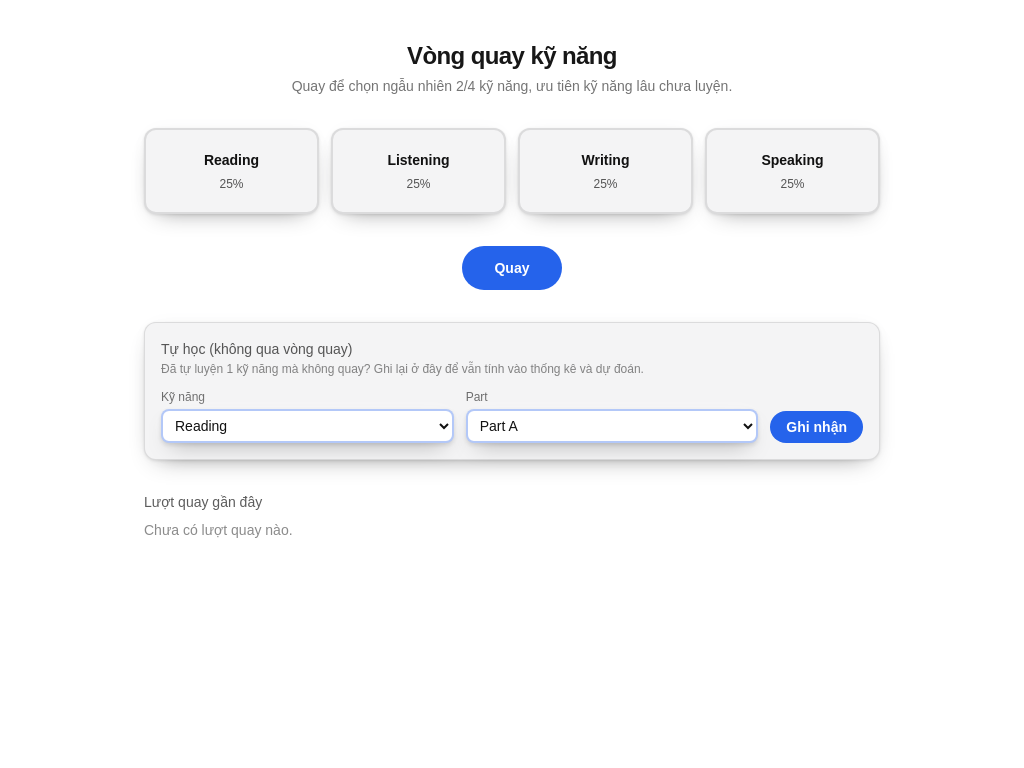
Test case: Spinner › reveals the server-chosen skills and parts after a roll
What coordinates should you click on to do the following:
click the button "Quay"
I would click on:
 (512, 268)
Its box is left=462, top=246, right=562, bottom=290.
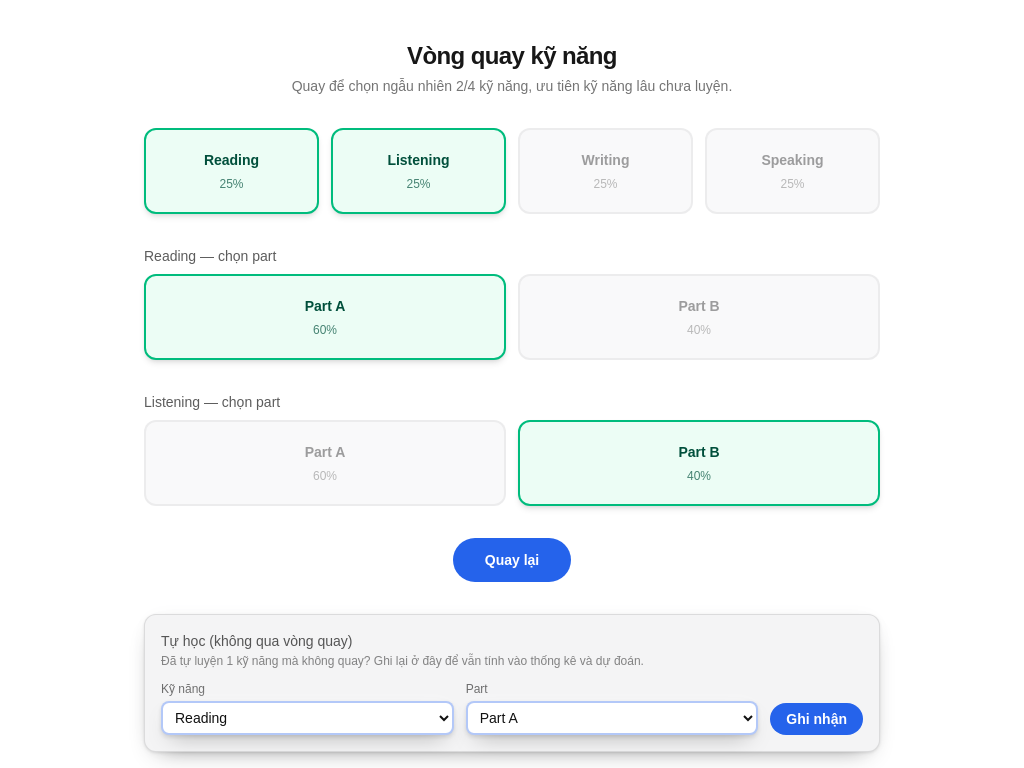
Expected: the button "Quay lại" is shown, left=453, top=538, right=571, bottom=582
Expected: the heading "Reading — chọn part" is shown, left=144, top=248, right=276, bottom=264
Expected: the heading "Listening — chọn part" is shown, left=144, top=394, right=280, bottom=410
